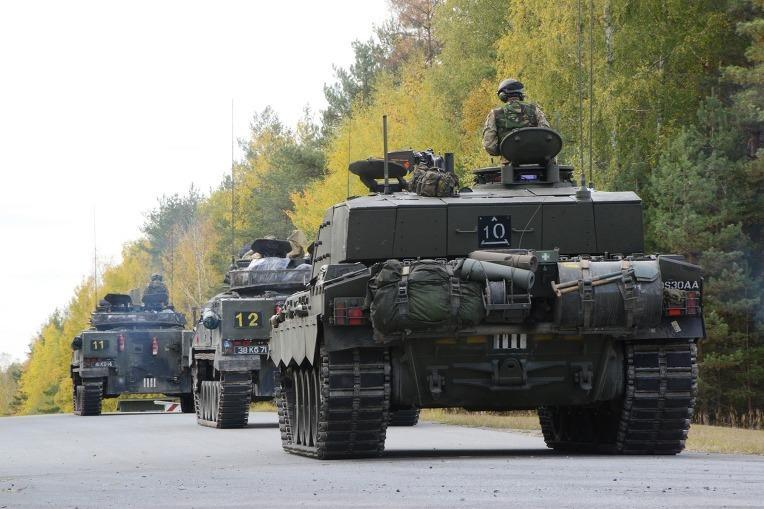MIL_IFV: (270, 82, 710, 463)
